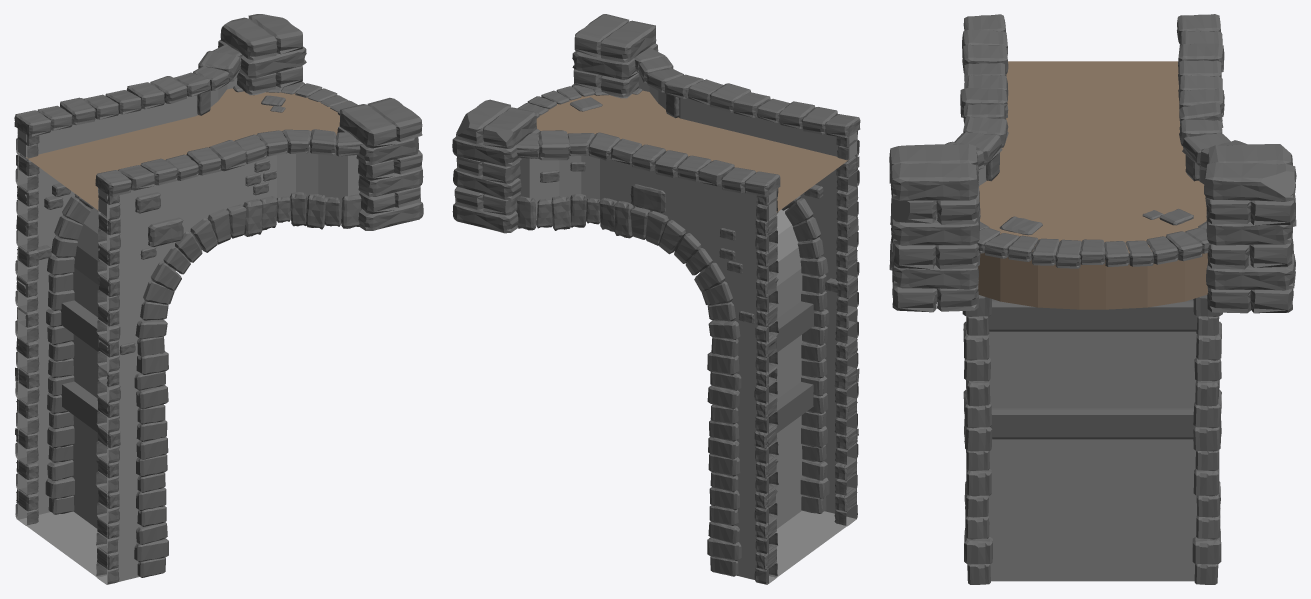
The model's file is Bridge section 4.fbx.
3 renders of one model, left to right at view 1: azimuth 30°, elevation 25°; view 2: azimuth 150°, elevation 25°; view 3: azimuth 270°, elevation 25°, orthographic. The views are drawn at different scales.
Parts seen in each view (by area): view 1: Bridge section 4; view 2: Bridge section 4; view 3: Bridge section 4.
Part boxes in pixels (left/top/right/bottom): Bridge section 4: left=14, top=14, right=423, bottom=584; Bridge section 4: left=452, top=14, right=860, bottom=584; Bridge section 4: left=889, top=14, right=1296, bottom=584.
Size of the model in its own units: 13.47 by 17.68 by 11.72.
